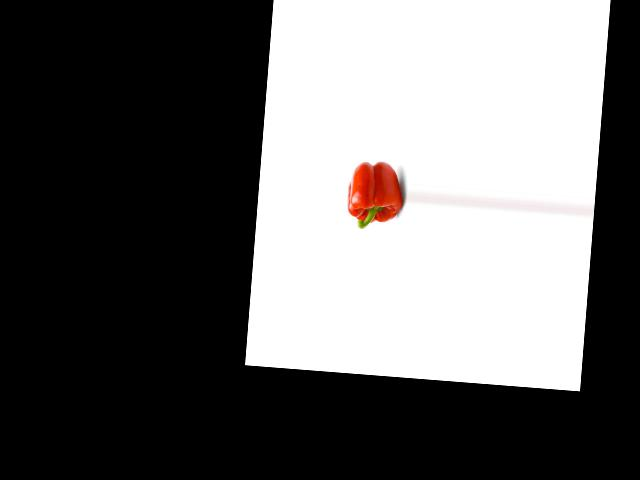bell_pepper: (345, 153, 404, 235)
